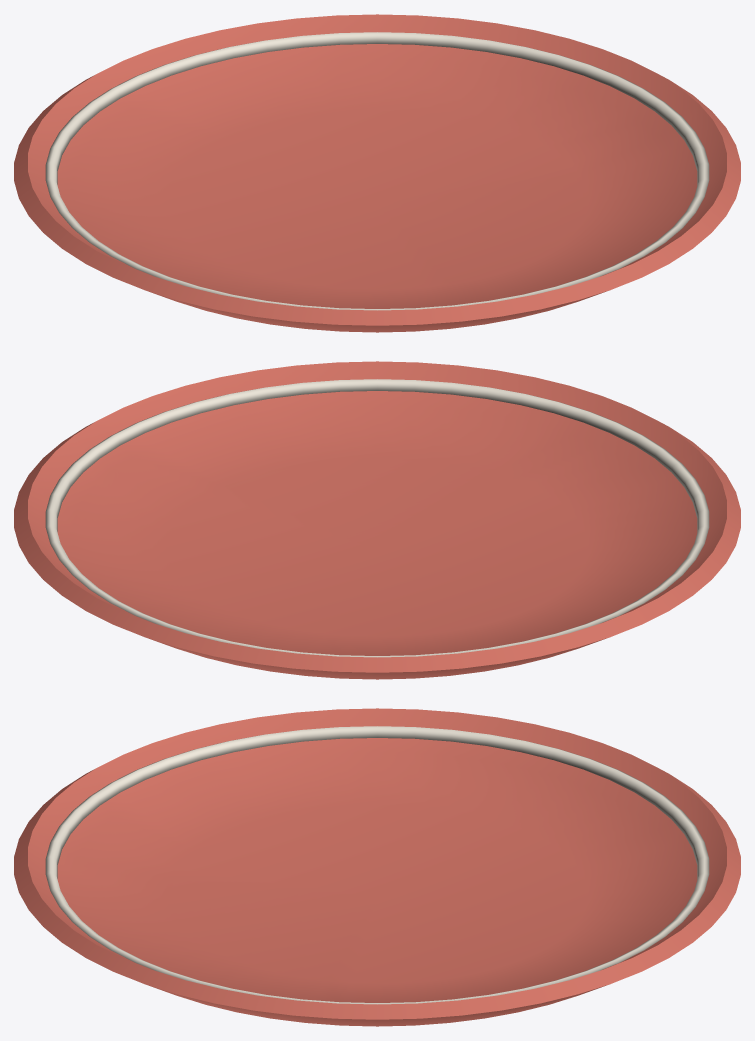
The model's file is kit_plate.glb.
3 renders of one model, top to bottom at view 1: azimuth 30°, elevation 25°; view 2: azimuth 150°, elevation 25°; view 3: azimuth 270°, elevation 25°, orthographic.
Parts seen in each view (by area): view 1: PART; view 2: PART; view 3: PART.
Part boxes in pixels (left/top/right/bottom): PART: left=14, top=14, right=740, bottom=332; PART: left=14, top=361, right=740, bottom=679; PART: left=14, top=708, right=740, bottom=1026.
Bounding box in the file's own units: 0.21 × 0.021 × 0.2096.
